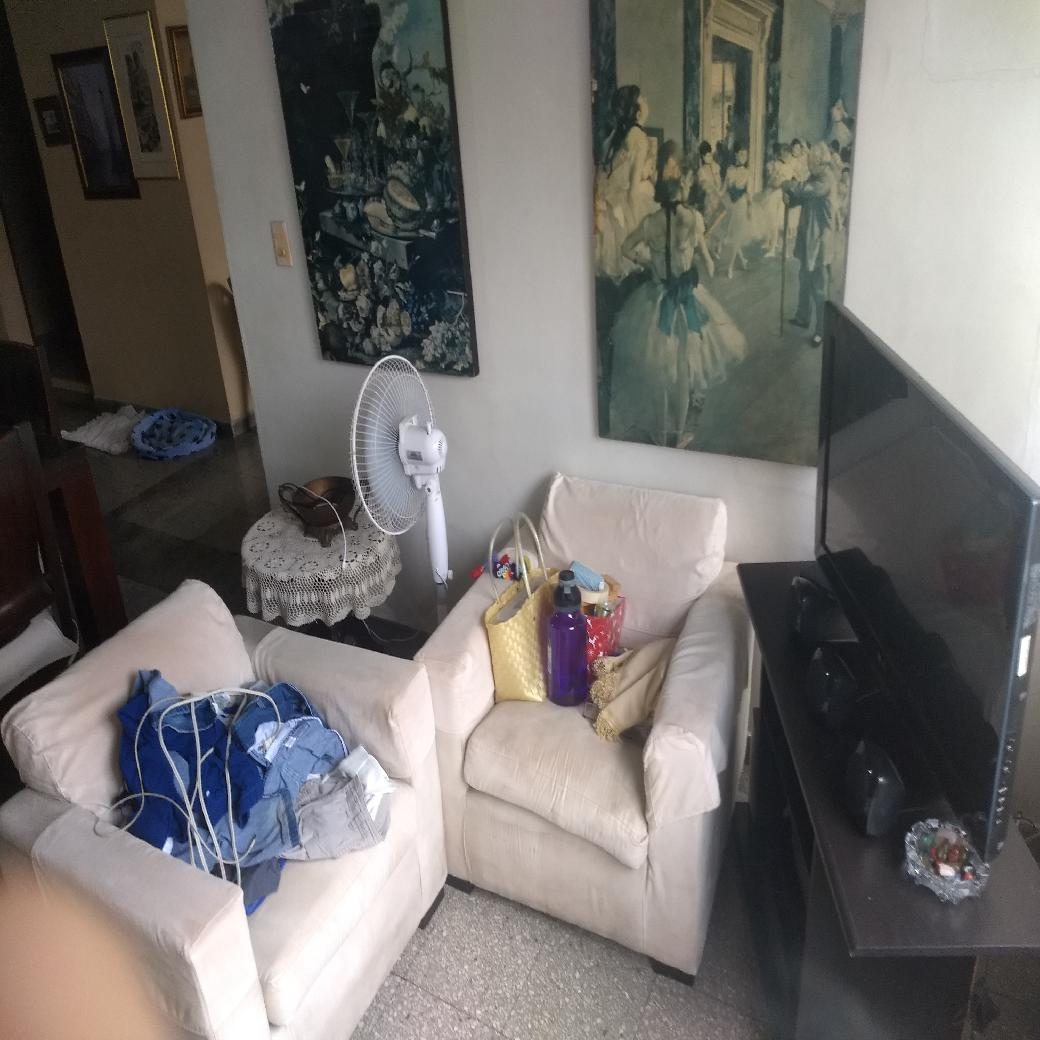tv: (813, 296, 1034, 867)
ventilador: (347, 345, 456, 556)
